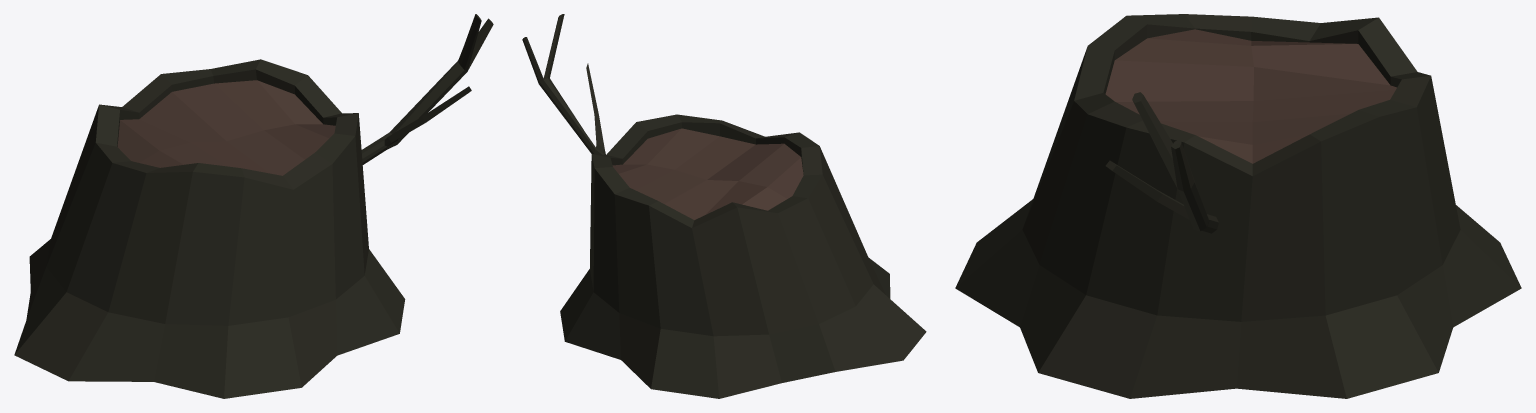
The model's file is Treetrunk1.fbx.
3 renders of one model, left to right at view 1: azimuth 30°, elevation 25°; view 2: azimuth 150°, elevation 25°; view 3: azimuth 270°, elevation 25°, orthographic. The views are drawn at different scales.
Visible parts, largest first — view 1: Treetrunk1; view 2: Treetrunk1; view 3: Treetrunk1.
Part boxes in pixels (x1,y1,x2,y2): Treetrunk1: (14, 14, 493, 398); Treetrunk1: (522, 14, 926, 398); Treetrunk1: (955, 14, 1521, 398).
Size of the model in its own units: 58.59 by 32.44 by 46.85.
